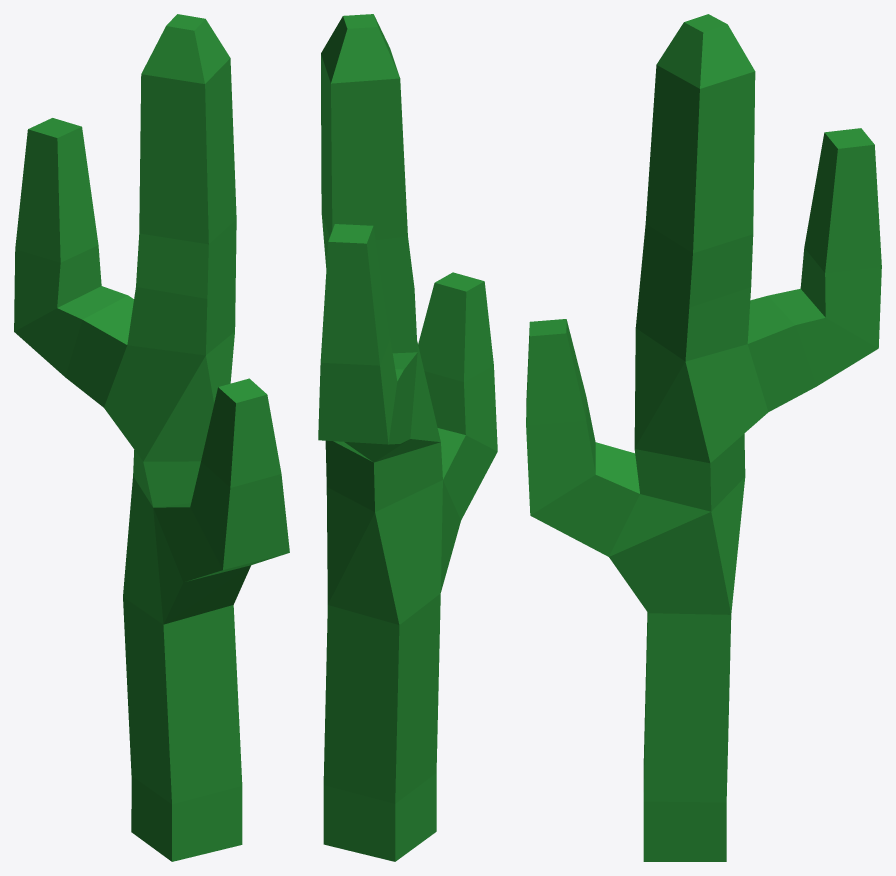
File: lowpolyCactus.glb
3 views of the same model, side by side, from view 1: azimuth 30°, elevation 25°; view 2: azimuth 150°, elevation 25°; view 3: azimuth 270°, elevation 25° (orthographic). The views are drawn at different scales.
Parts seen in each view (by area): view 1: Plane; view 2: Plane; view 3: Plane.
Boxes of the visible parts, <box> form: Plane: <box>14,14,289,861</box>; Plane: <box>318,14,497,861</box>; Plane: <box>526,14,881,861</box>.
Size of the model in its own units: 0.7961 by 4.26 by 1.66.
